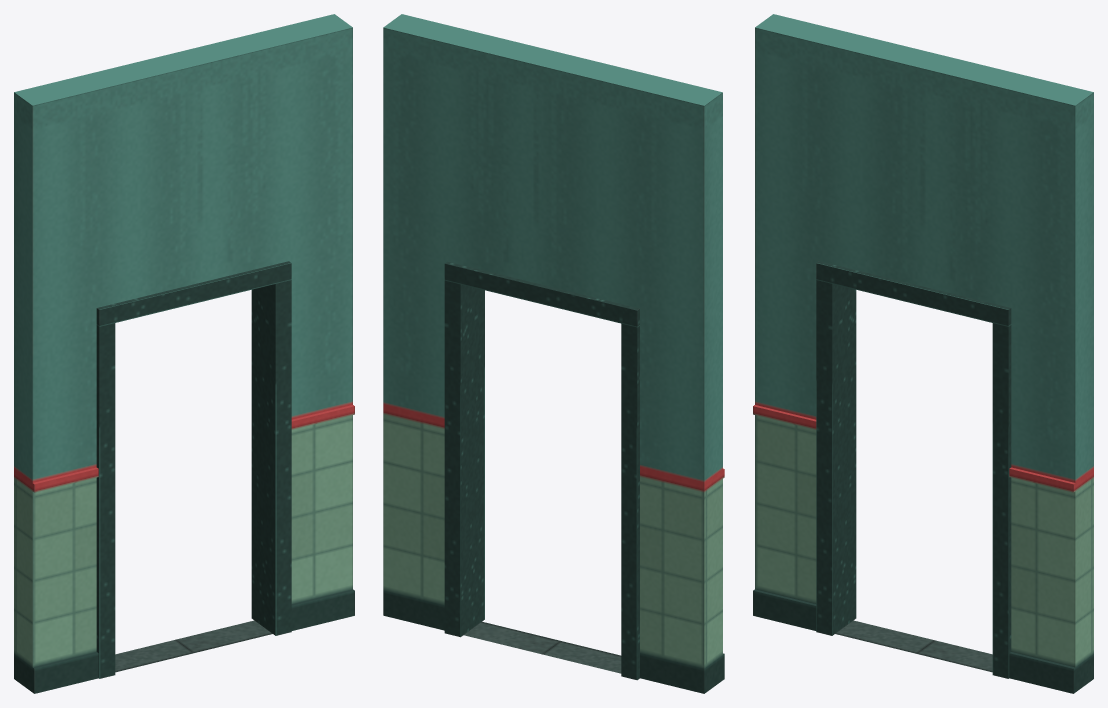
Rendered from SM_Lab_Wall_Door_200x350.fbx.
3 views of the same model, side by side, from view 1: azimuth 30°, elevation 25°; view 2: azimuth 150°, elevation 25°; view 3: azimuth 330°, elevation 25° (orthographic).
Parts seen in each view (by area): view 1: SM_Lab_Wall_Door_200x350; view 2: SM_Lab_Wall_Door_200x350; view 3: SM_Lab_Wall_Door_200x350.
Part boxes in pixels (x1,y1,x2,y2): SM_Lab_Wall_Door_200x350: (14, 14, 354, 693); SM_Lab_Wall_Door_200x350: (383, 14, 724, 693); SM_Lab_Wall_Door_200x350: (753, 14, 1093, 693).
Size of the model in its own units: 2 by 3.5 by 0.26.
